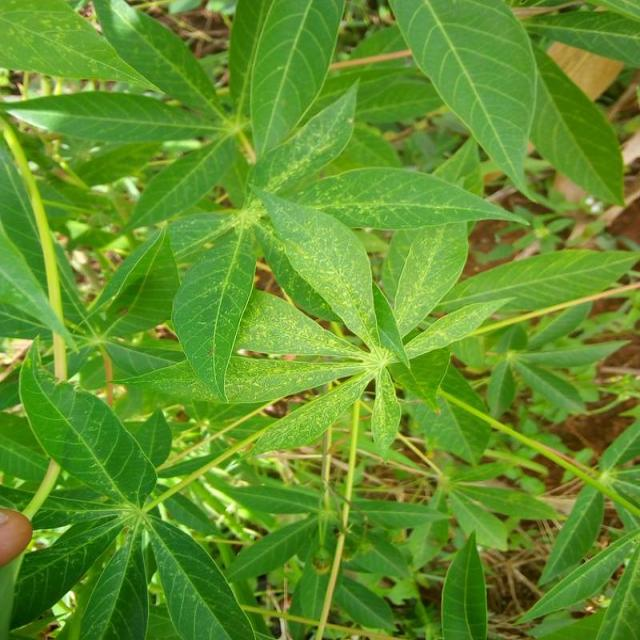cassava leaf: (0, 0, 638, 637), (388, 0, 538, 203)
